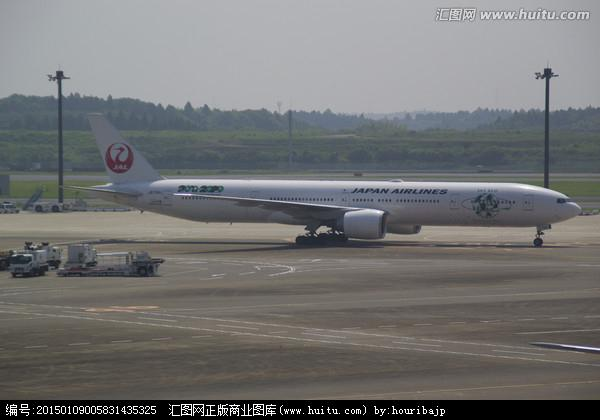airplane: (70, 109, 583, 246)
